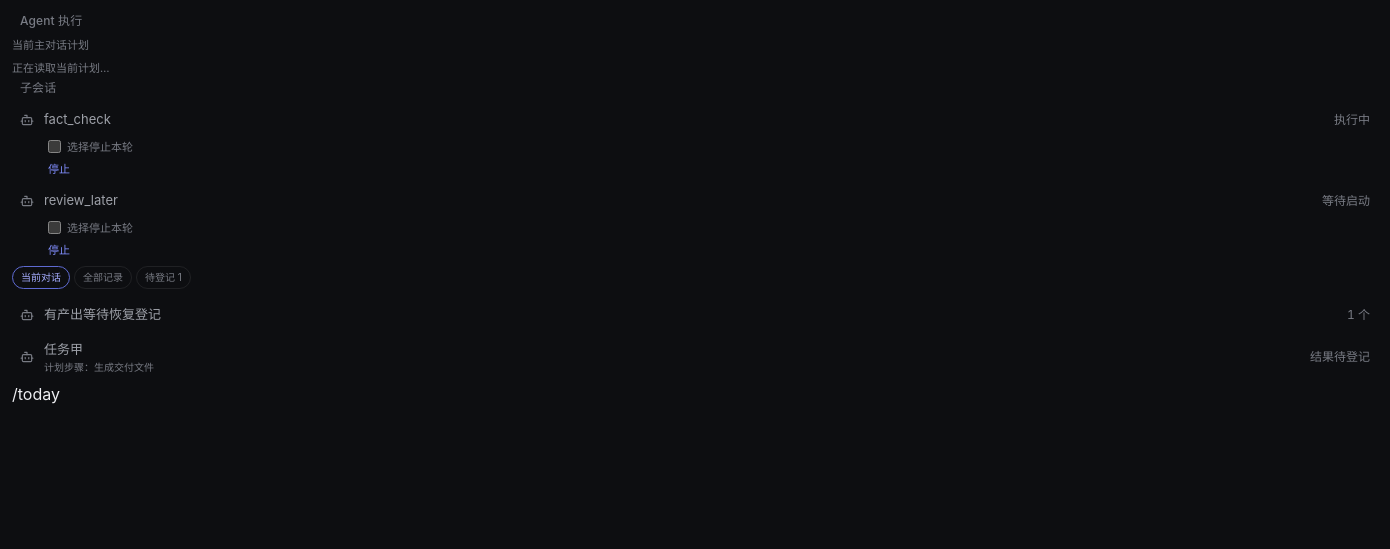
AgentsTab › reviews and confirms one exact batch of selected active child generations
What coordinates should you click on to do the following:
click the checkbox named "选择停止 fact_check"
I would click on:
 (54, 147)
Its box is [48,140,61,153].
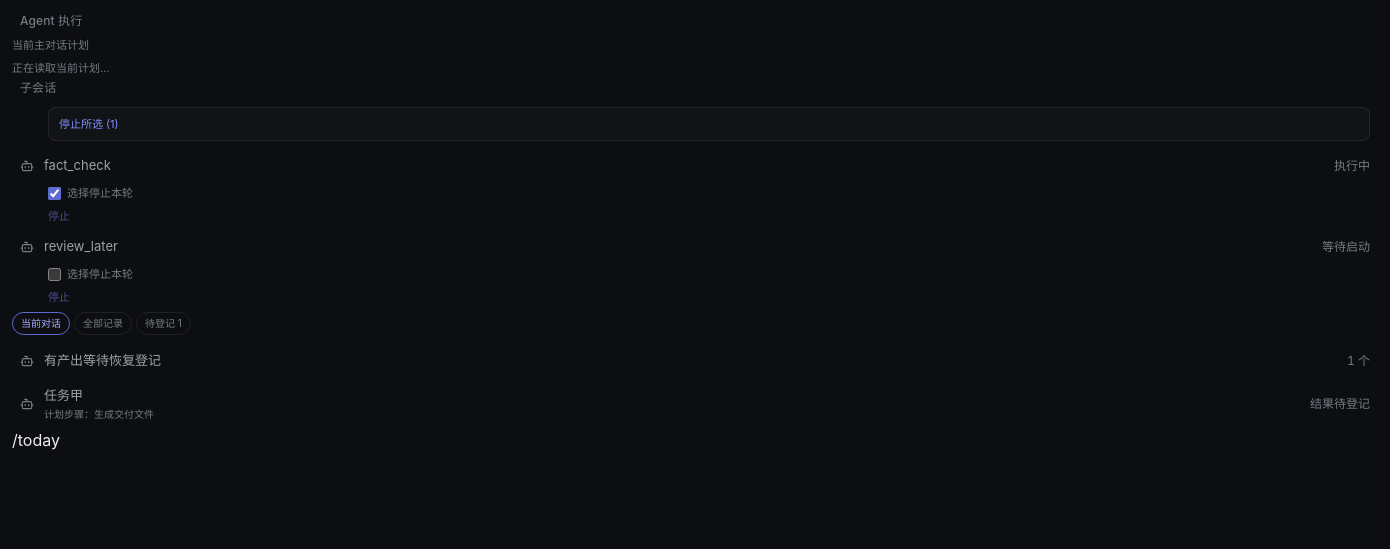
What coordinates should you click on to do the following:
click the checkbox named "选择停止 review_later"
I would click on:
 (54, 274)
Its box is [48,268,61,281].
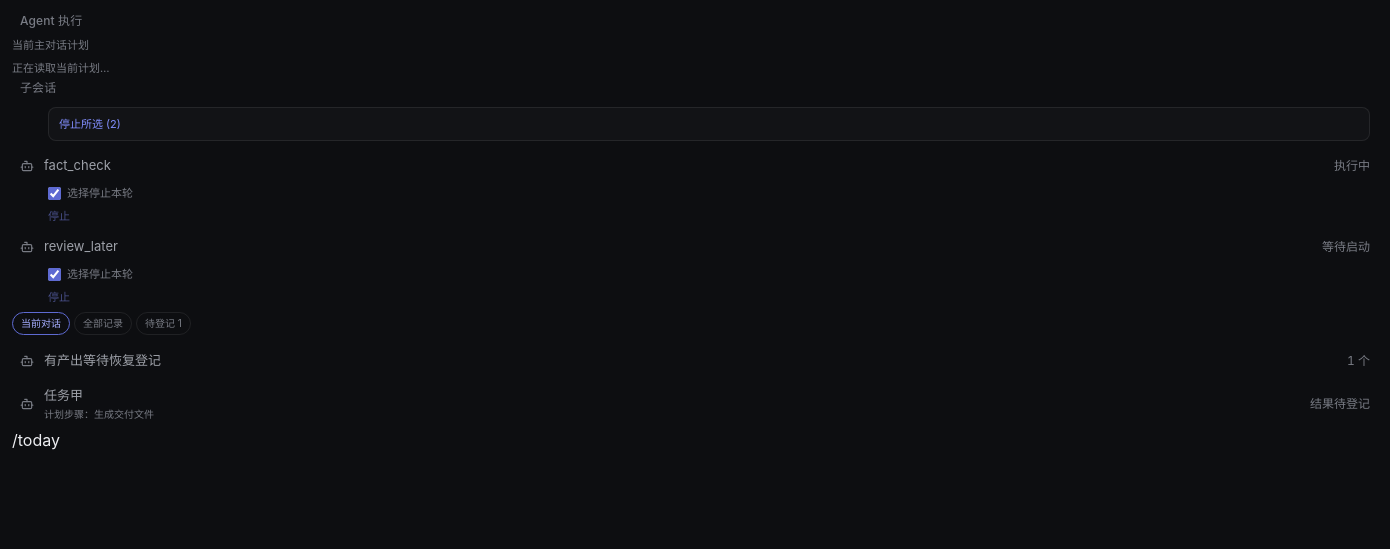
What coordinates should you click on to do the following:
click the button "停止所选 (2)"
I would click on:
 (90, 124)
Its box is [59,116,121,132].
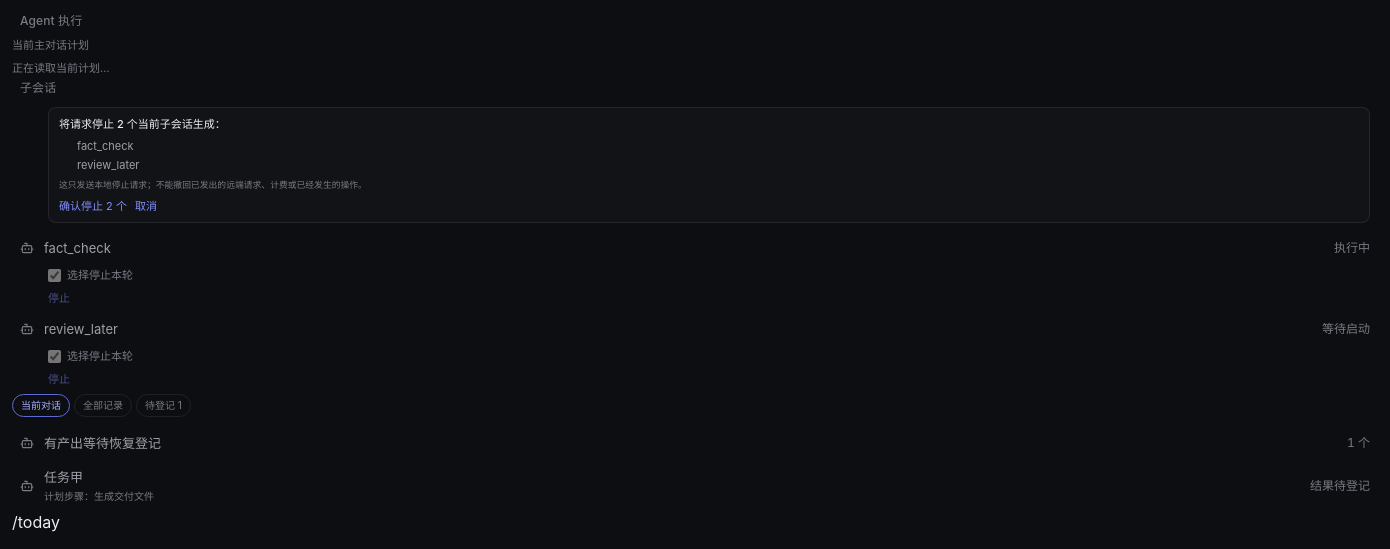
Result: the list item "fact_check" is shown at [77,139,134,153]
Result: the list item "review_later" is shown at [77,158,140,172]
Result: the text "这只发送本地停止请求；不能撤回已发出的远端请求、计费或已经发生的操作。" is shown at [59,179,367,190]
What coordinates should you click on to do the following:
click the button "确认停止 2 个"
I would click on:
 (93, 206)
Its box is [59,198,127,214].
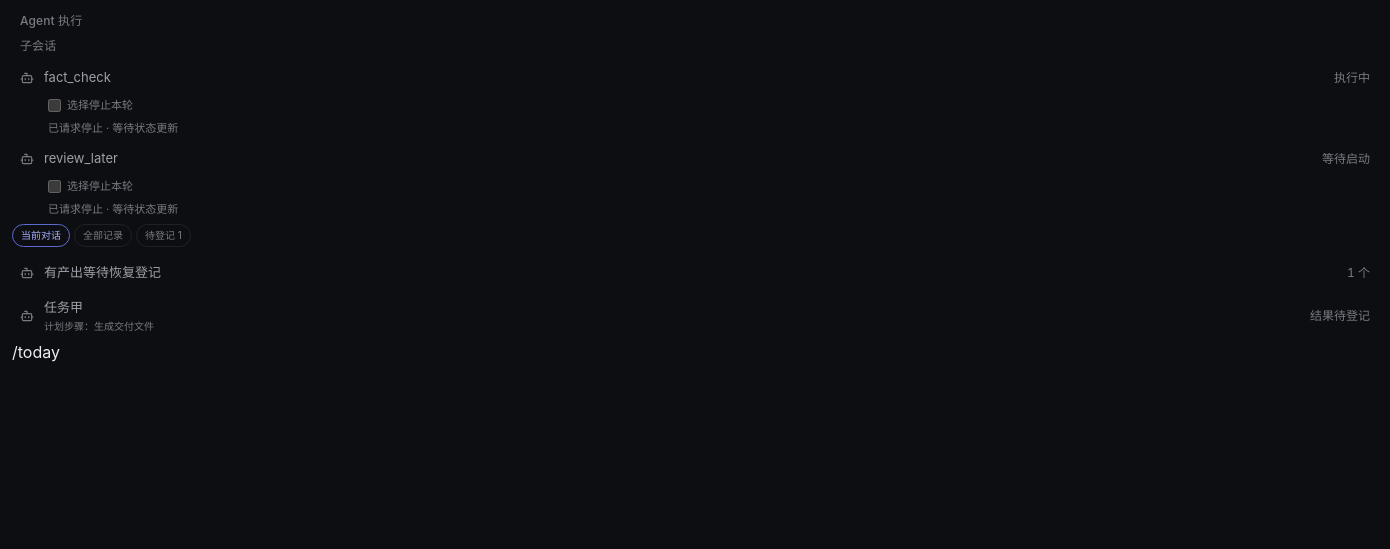
Result: the text "已请求停止 · 等待状态更新" is shown 2 times at [48,120,178,136]; [48,200,178,217]
